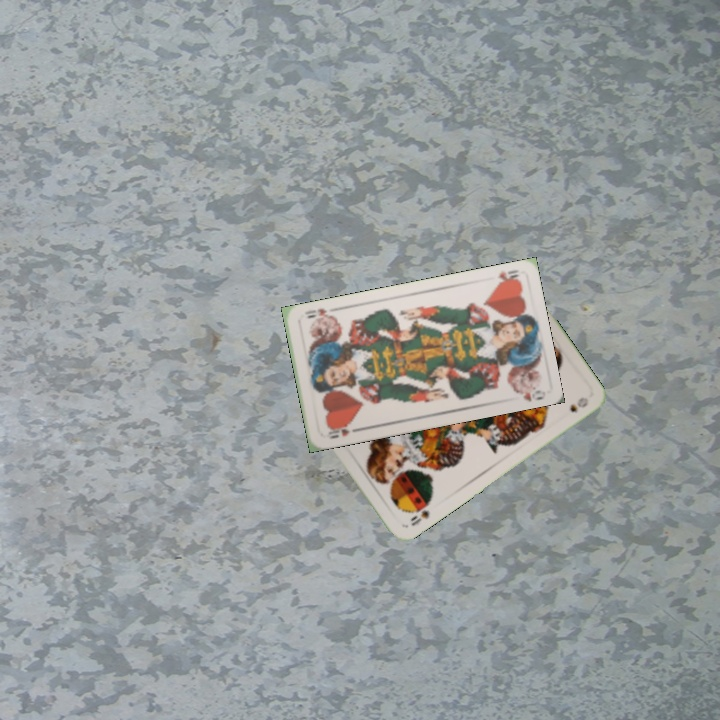HO: (323, 420, 362, 441), (493, 265, 523, 288)
SO: (406, 499, 432, 529)
